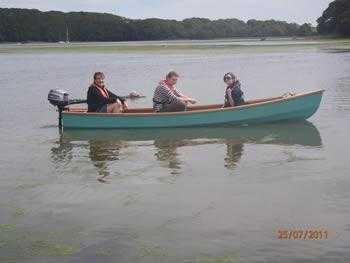kayak: (51, 88, 323, 134)
